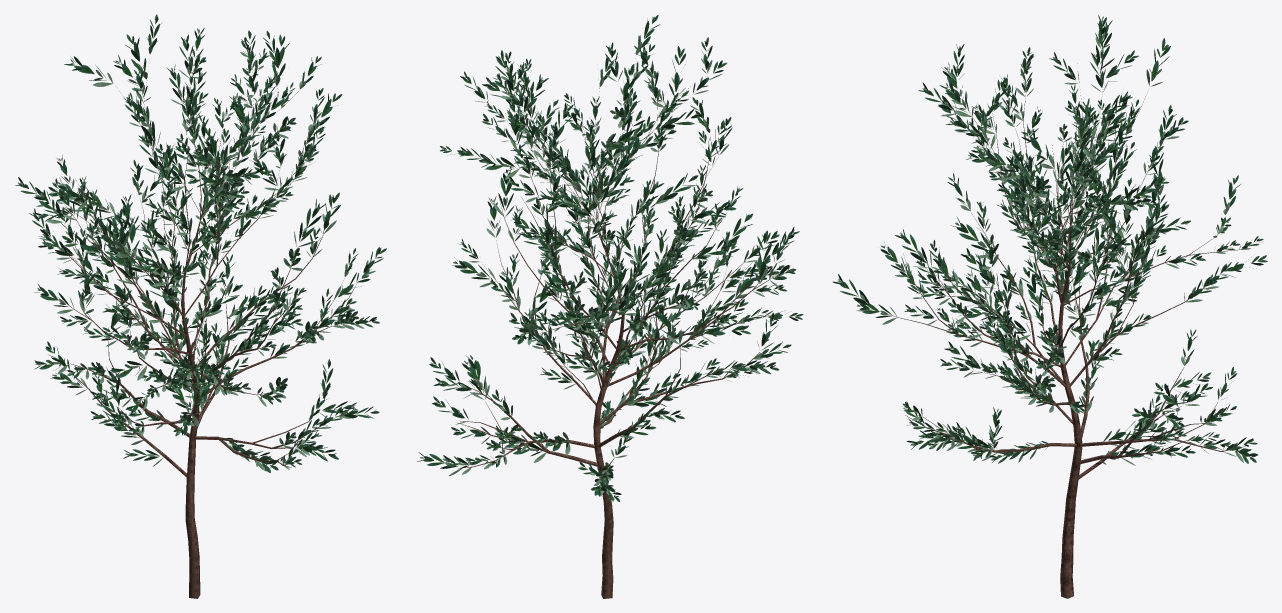
The model's file is olive_nocolor.fbx.
3 views of the same model, side by side, from view 1: azimuth 30°, elevation 25°; view 2: azimuth 150°, elevation 25°; view 3: azimuth 270°, elevation 25° (orthographic).
Visible parts, largest first — view 1: Tree; view 2: Tree; view 3: Tree.
Boxes of the visible parts, x1,y1,x2,y2 form: Tree: (40, 77, 359, 598); Tree: (457, 58, 782, 598); Tree: (876, 63, 1261, 598).
Bounding box in the file's own units: 127 × 203 × 140.
3 materials, 3 textured.
